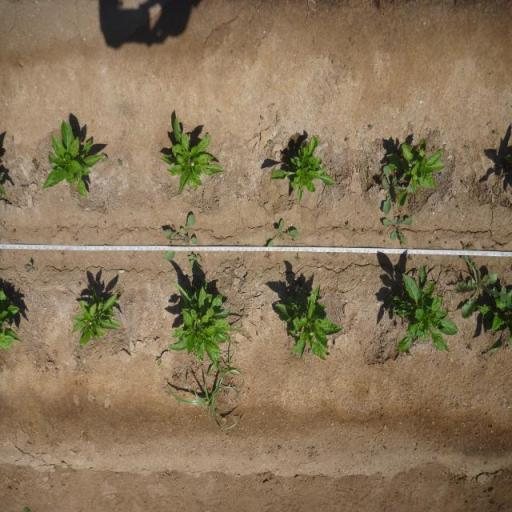plant: (390, 260, 459, 356), (274, 279, 344, 365), (159, 114, 227, 197), (166, 273, 230, 358), (43, 118, 103, 200), (271, 134, 337, 206), (70, 286, 123, 352), (399, 138, 447, 207), (476, 298, 512, 358), (0, 284, 23, 355)
weed: (168, 357, 248, 435), (454, 253, 512, 319), (159, 211, 205, 275), (378, 164, 402, 215), (380, 215, 415, 248), (266, 216, 300, 247), (23, 260, 38, 272), (30, 156, 41, 172), (460, 240, 474, 248), (294, 252, 302, 262), (466, 342, 474, 352), (101, 152, 108, 162), (491, 129, 500, 136), (117, 158, 124, 166), (345, 221, 352, 229), (368, 123, 374, 131), (267, 139, 274, 145), (344, 136, 350, 143), (378, 229, 384, 236), (460, 180, 466, 186), (259, 114, 264, 120), (437, 236, 440, 241)
